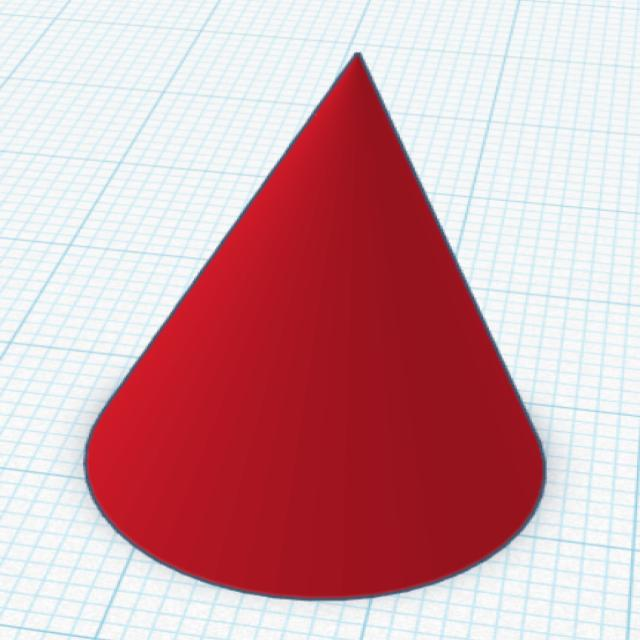cone: (76, 50, 552, 608)
